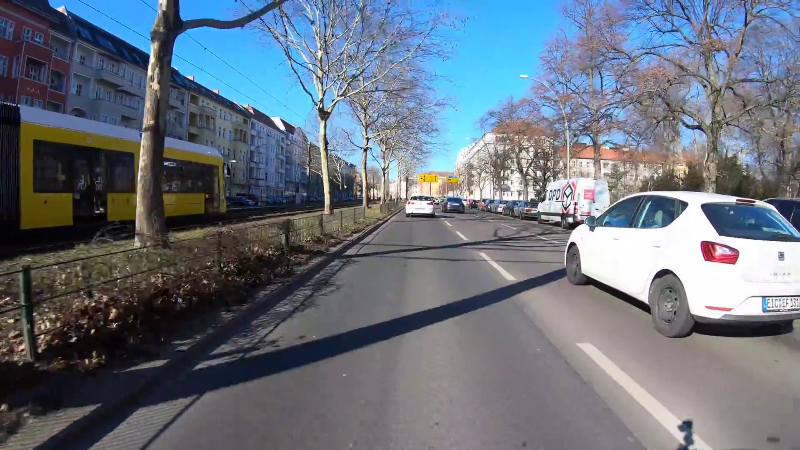Plate: (760, 293, 799, 314)
